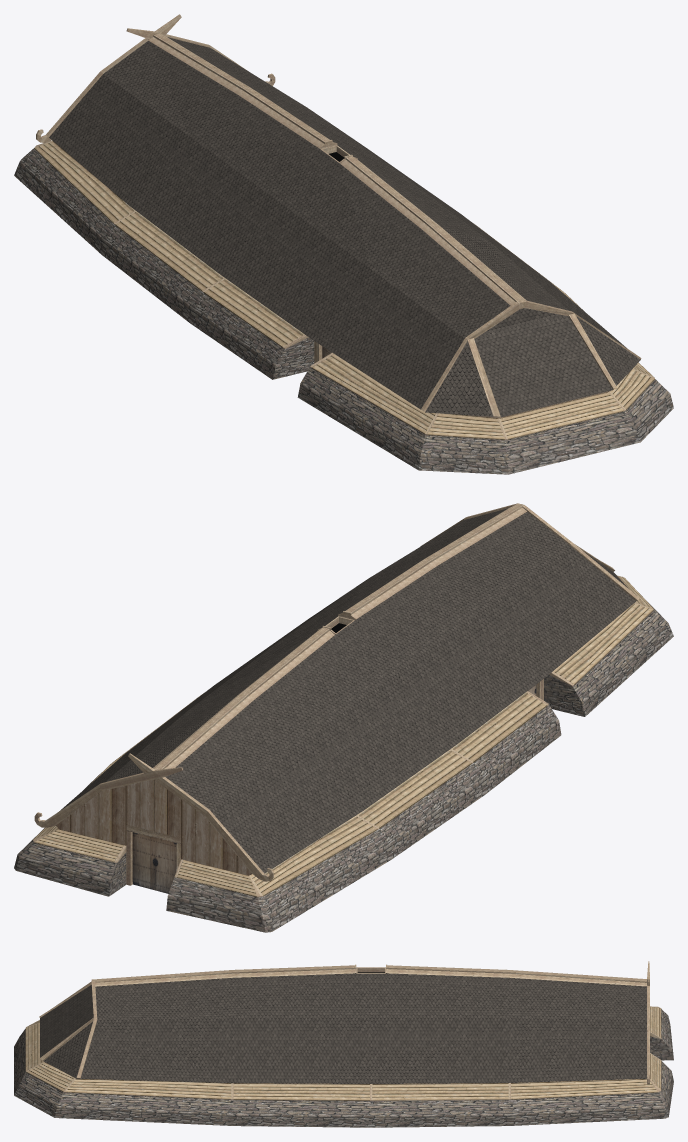
The model's file is bloodraven_longhouse.FBX.
The picture shows the model from 3 angles, top to bottom: view 1: azimuth 30°, elevation 25°; view 2: azimuth 150°, elevation 25°; view 3: azimuth 270°, elevation 25°; orthographic projection. The views are drawn at different scales.
Visible parts, largest first — view 1: bloodraven_longhouse; view 2: bloodraven_longhouse; view 3: bloodraven_longhouse.
Part boxes in pixels (bbox=[...]): bloodraven_longhouse: bbox=[14, 14, 673, 474]; bloodraven_longhouse: bbox=[14, 503, 673, 932]; bloodraven_longhouse: bbox=[14, 961, 673, 1127].
Size of the model in its own units: 1423 by 3570 by 629.
Materials: 7 (7 with a texture image).
